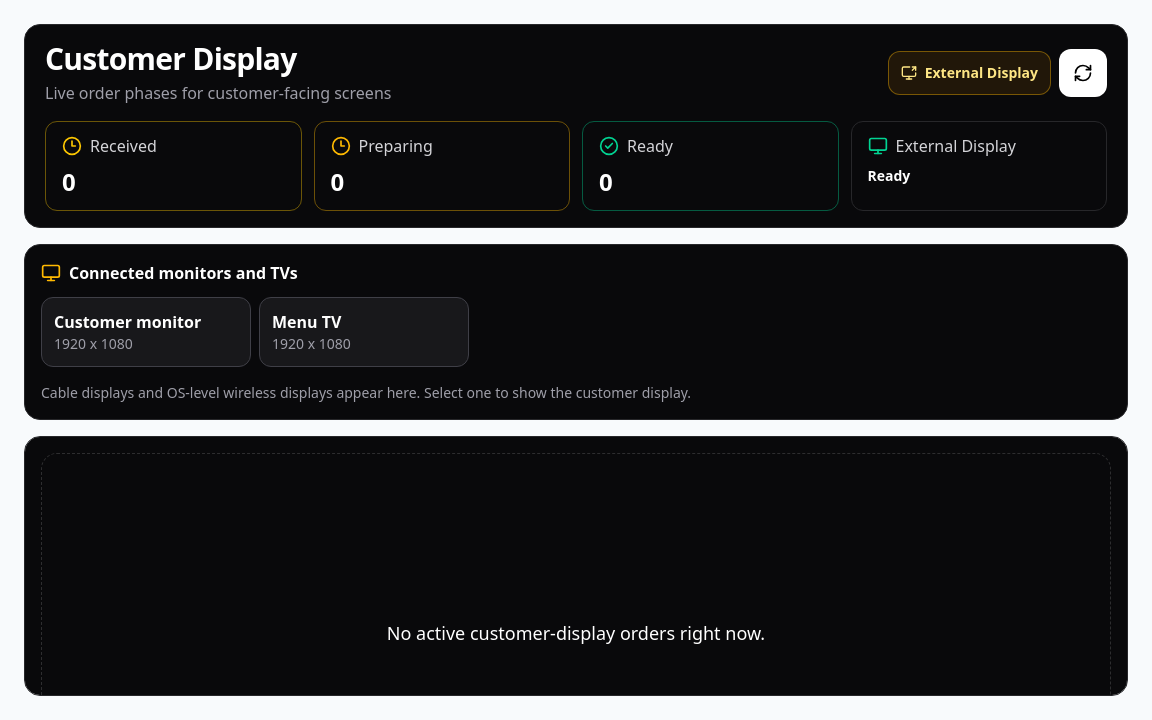
Test case: persistent Windows Customer Display owner (strictly local) › Auto opens without naming a screen, Stop closes exactly the owned token and the snapshot stays public
The width and height of the screenshot is (1152, 720).
Click the button "External Display" at x=969, y=73, box [888,51,1051,95]
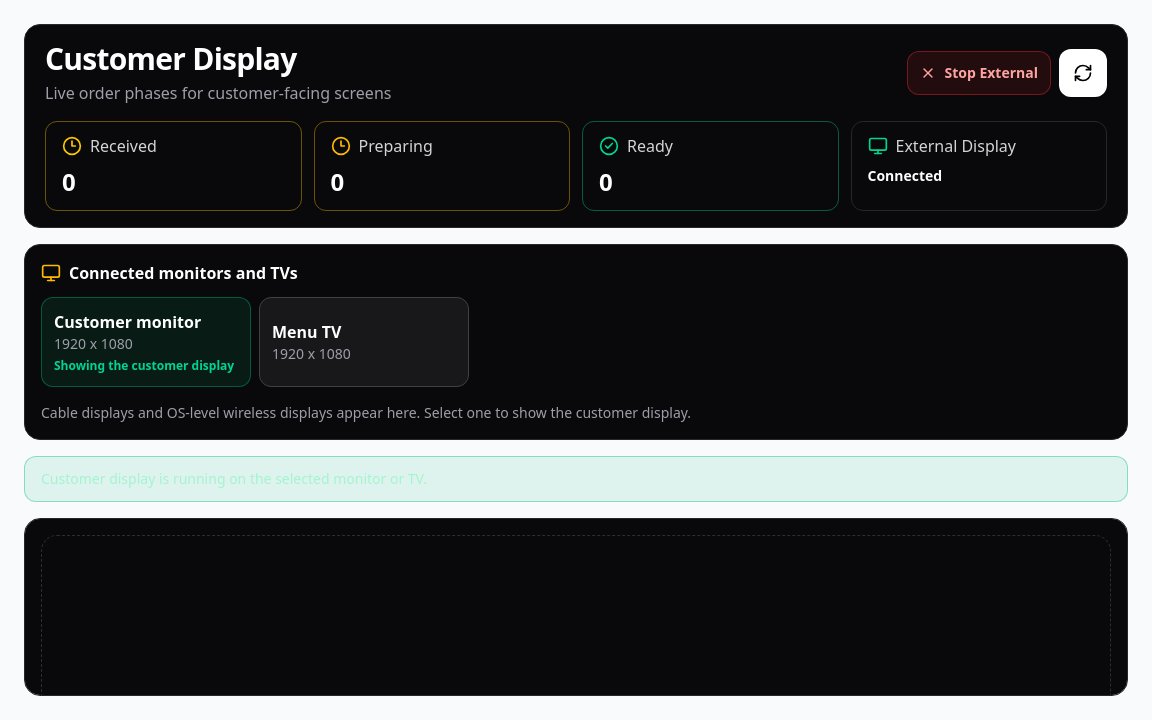
expect the button "Customer monitor 1920 x 1080 Showing the customer display" is shown: met, box [41,297,251,387]
expect the button "Customer monitor 1920 x 1080 Showing the customer display" is disabled: met, box [41,297,251,387]
Click the button "Stop External" at x=979, y=73, box [908,51,1051,95]
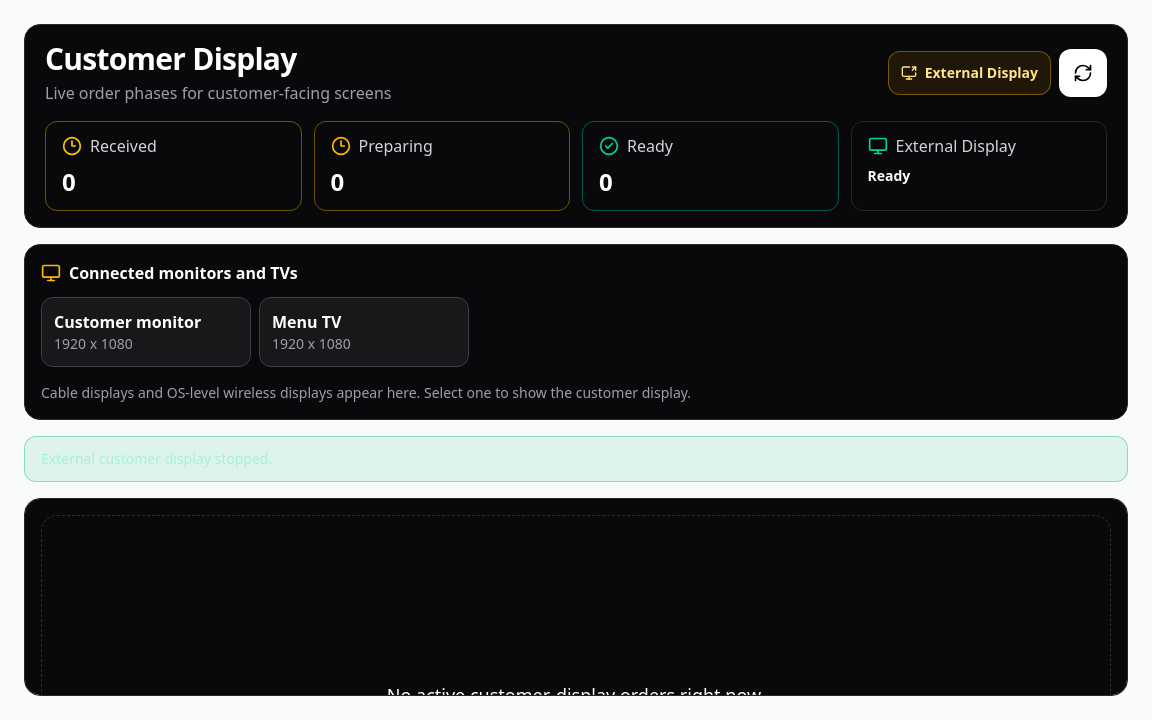
expect the button "External Display" is enabled: met, box [888,51,1051,95]
expect the text "External customer display stopped." is shown: met, box [24,436,1128,482]
expect the button "Customer monitor 1920 x 1080" is enabled: met, box [41,297,251,367]
